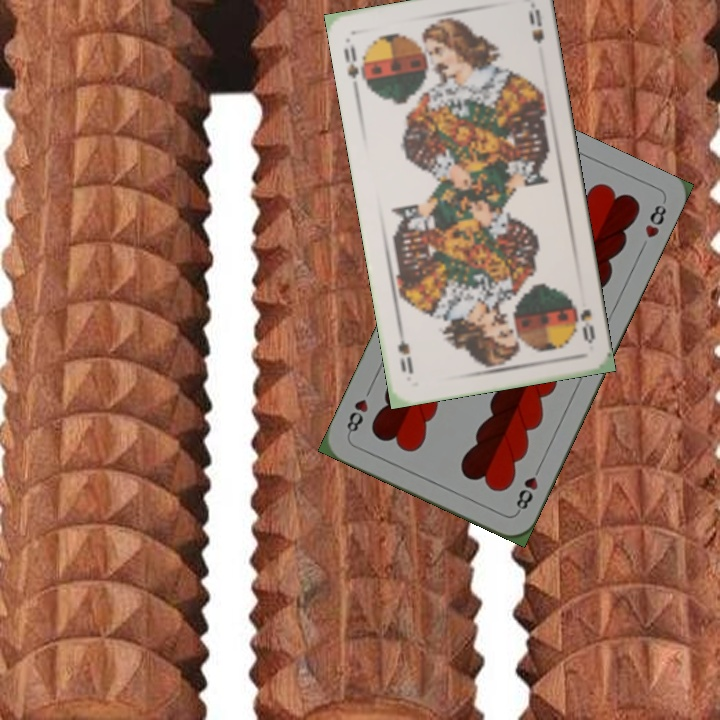H8: (512, 460, 544, 516)
SO: (339, 35, 371, 95), (568, 294, 598, 347)
